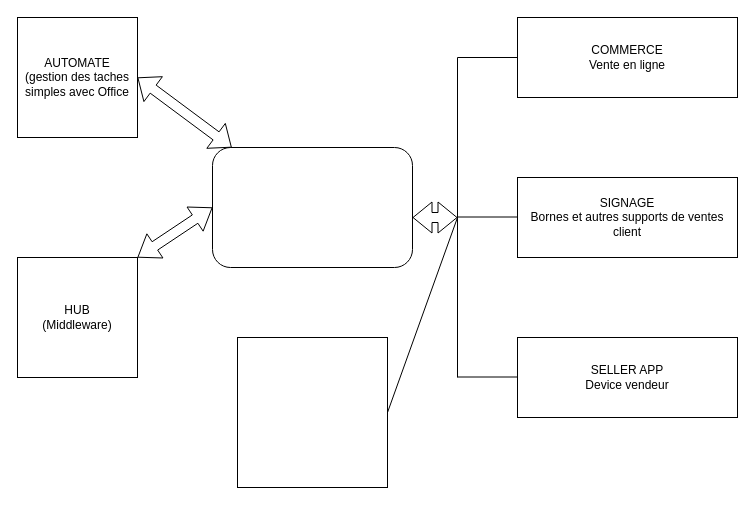
The diagram is 755 pixels wide and 505 high, and some of its shapes have lost their labels. The centre of each missing label's shape, as x and y in pixels:
"OFFICE (Interface d'administration et de gestion)" goes at point (312, 207).
"ORCHESTRATOR (Gestionnaire de commande, OMS)" goes at point (312, 412).
